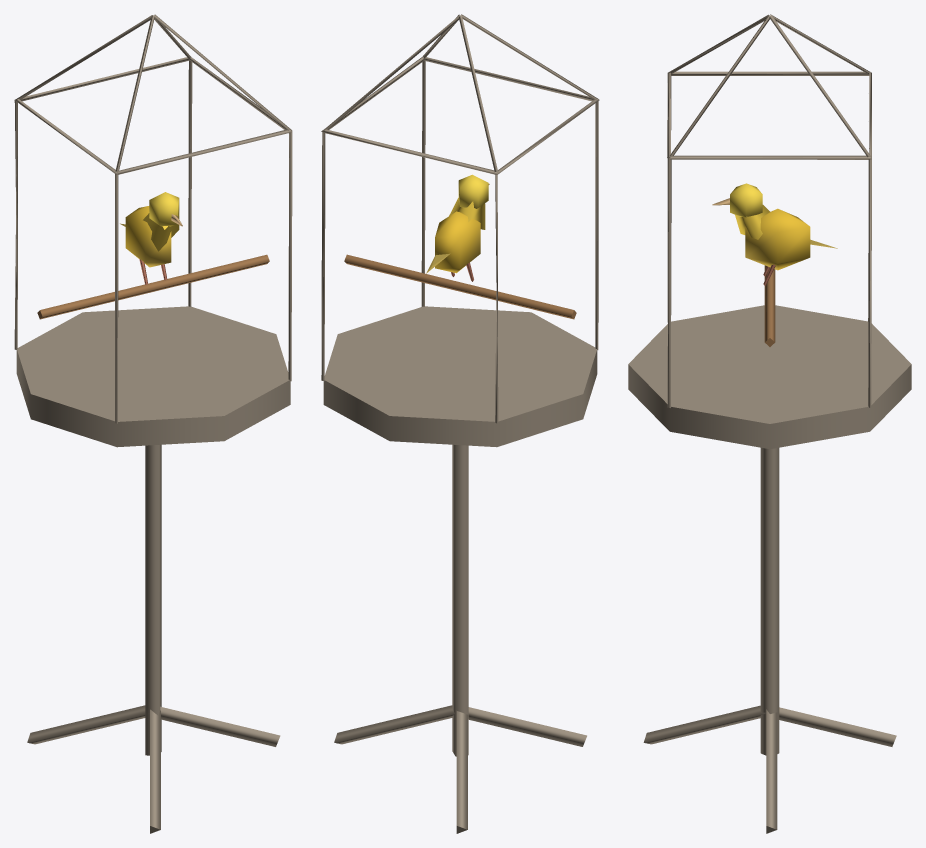
The model's file is canary_caged_lod.glb.
3 views of the same model, side by side, from view 1: azimuth 30°, elevation 25°; view 2: azimuth 150°, elevation 25°; view 3: azimuth 270°, elevation 25° (orthographic).
Parts seen in each view (by area): view 1: canary_caged_lod_galvanised, canary_caged_lod_fur; view 2: canary_caged_lod_galvanised, canary_caged_lod_fur; view 3: canary_caged_lod_galvanised, canary_caged_lod_fur.
Part boxes in pixels (x1,y1,x2,y2): canary_caged_lod_galvanised: (14, 14, 292, 833); canary_caged_lod_fur: (37, 192, 269, 319); canary_caged_lod_galvanised: (321, 14, 599, 833); canary_caged_lod_fur: (344, 174, 576, 319); canary_caged_lod_galvanised: (628, 14, 911, 833); canary_caged_lod_fur: (712, 183, 837, 346).
Size of the model in its own units: 0.5451 by 1.6 by 0.54.
